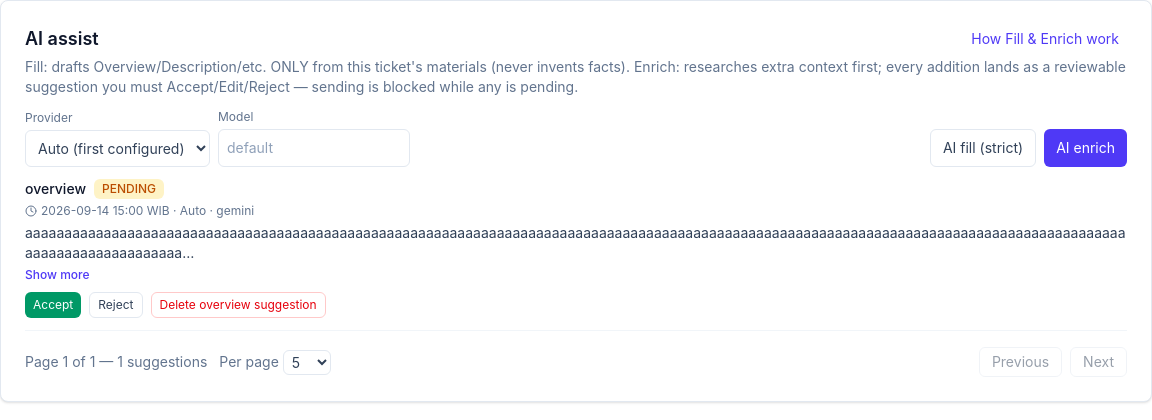
Test: TASK-COMPACT: suggestion row truncation (160 chars) › truncates suggestedValue to 160 chars preview with Show more toggle per row
Expected: the button "Accept" is shown, [25,292,81,318]
Expand shows full text with break-words and Show less
Step 1. Click the button "Show more" → x=57, y=275, box [25,267,90,283]
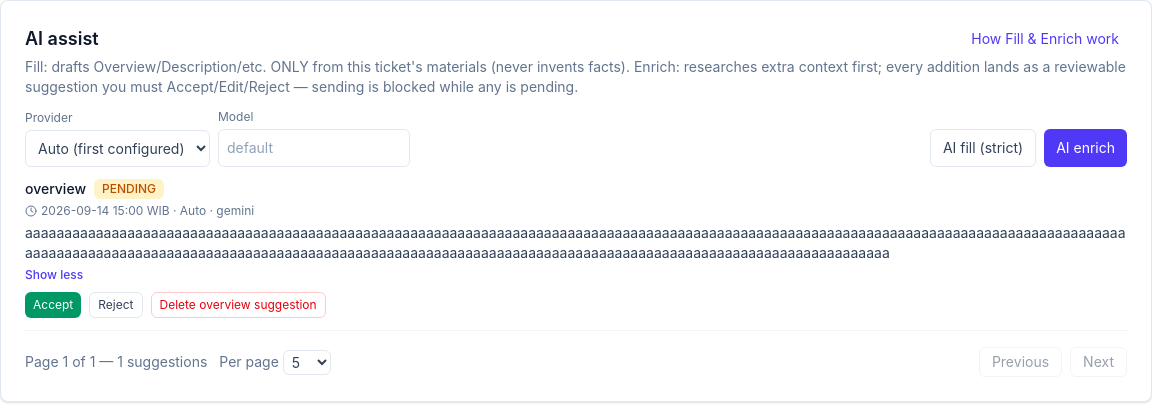
Expected: the button "Accept" is shown, [25,292,81,318]
Result: the button "Show less" is shown
Collapse back
Step 2. Click the button "Show less" → x=54, y=275, box [25,267,83,283]
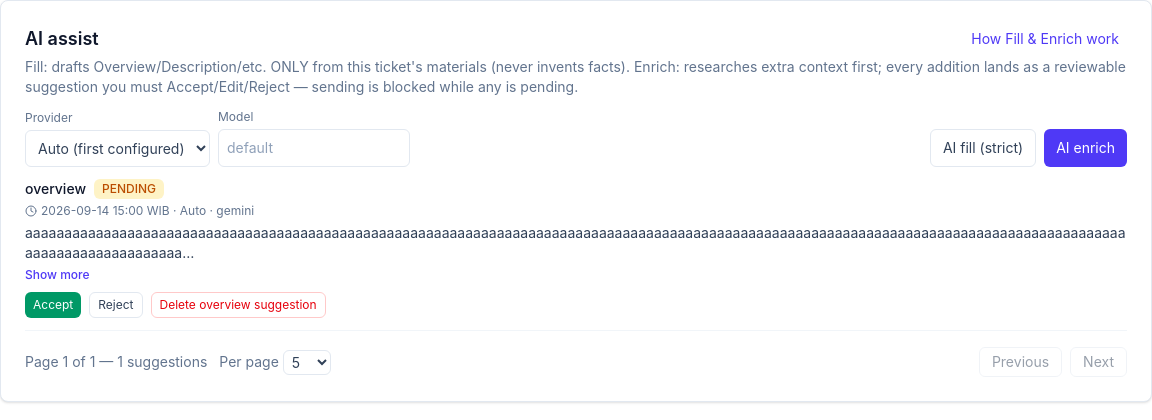
Result: the button "Show more" is shown at [25,267,90,283]
